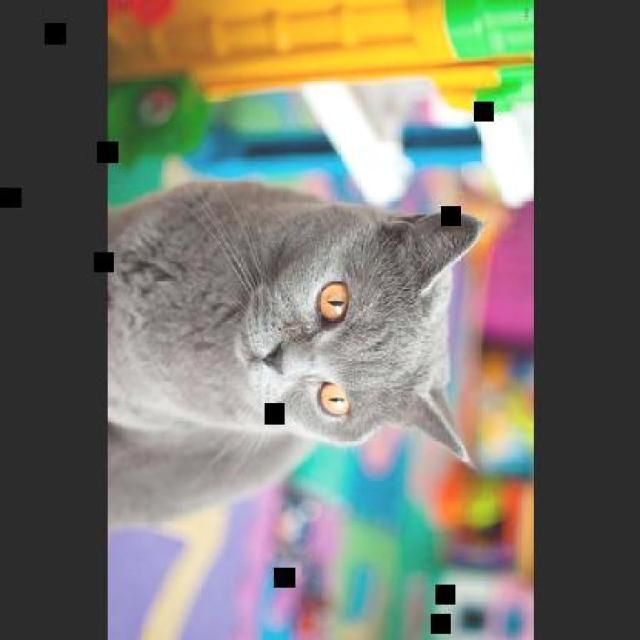unauthorized: (106, 177, 485, 526)
